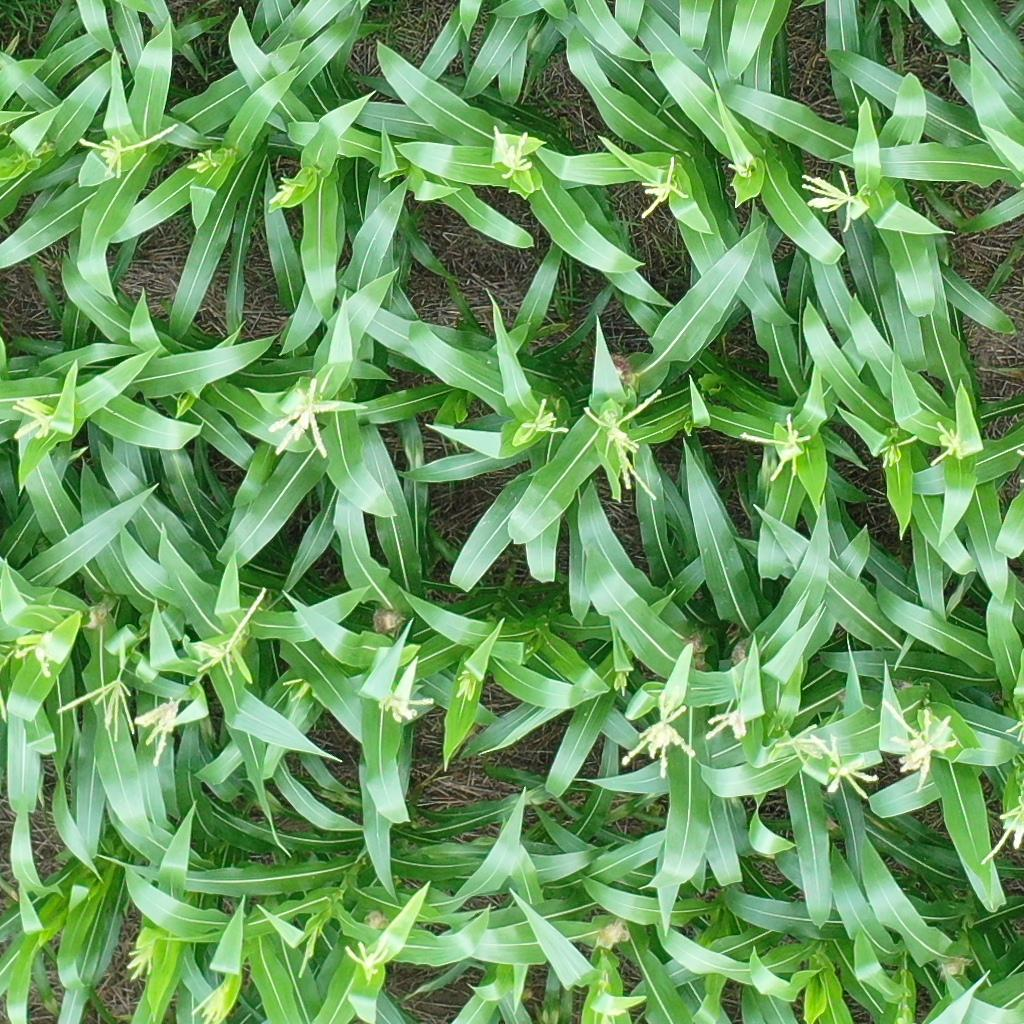Tassel: (583, 387, 661, 503), (262, 373, 349, 466), (188, 584, 269, 680), (881, 696, 961, 789), (620, 701, 698, 777), (807, 731, 887, 805), (56, 677, 145, 741), (77, 123, 176, 178), (741, 410, 812, 486), (800, 166, 870, 232), (630, 155, 690, 220), (366, 675, 435, 731), (130, 699, 187, 766), (771, 714, 831, 768), (980, 792, 1024, 865), (10, 626, 63, 682), (5, 391, 62, 443), (492, 124, 536, 184), (519, 395, 569, 443), (929, 419, 976, 469), (704, 698, 751, 746), (342, 937, 390, 982), (188, 977, 228, 1023), (294, 921, 325, 978), (123, 943, 159, 981), (285, 674, 322, 710), (878, 435, 917, 469), (610, 662, 639, 707), (262, 175, 295, 214), (455, 664, 478, 705), (727, 150, 755, 180), (185, 150, 216, 176), (1006, 714, 1023, 746)
